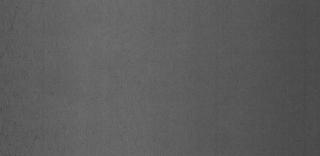silk spot: (5, 20, 58, 108)
